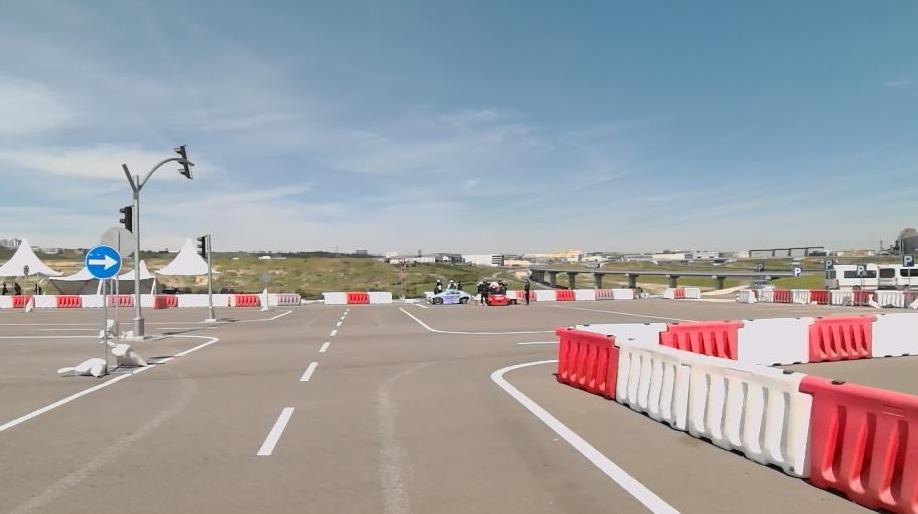nesne: (1, 301, 691, 513), (223, 306, 683, 514), (1, 304, 353, 513), (554, 325, 918, 514), (490, 358, 679, 513), (616, 339, 813, 480), (0, 333, 218, 433), (574, 313, 918, 368), (802, 375, 918, 514), (0, 291, 301, 308), (557, 320, 619, 399), (398, 306, 554, 335), (737, 288, 916, 308), (662, 318, 744, 361), (737, 317, 808, 365), (808, 315, 874, 363), (583, 321, 666, 345), (873, 315, 918, 358), (824, 264, 892, 292), (256, 407, 294, 456), (501, 288, 632, 302), (320, 287, 396, 306), (85, 242, 122, 280), (878, 264, 917, 292), (427, 289, 474, 307), (179, 293, 235, 307), (875, 291, 904, 308), (233, 293, 261, 308), (829, 289, 854, 305), (475, 278, 490, 304), (107, 293, 136, 306), (154, 293, 179, 308), (81, 293, 109, 306), (299, 362, 318, 381), (34, 293, 58, 308), (808, 288, 830, 304), (735, 288, 757, 304), (535, 289, 558, 304), (56, 294, 82, 307), (262, 292, 280, 310), (12, 293, 35, 307), (853, 291, 876, 305), (322, 292, 348, 304), (487, 293, 510, 306), (575, 288, 596, 302), (792, 288, 809, 305), (368, 291, 392, 303), (279, 292, 300, 305), (597, 288, 616, 302), (346, 292, 370, 303), (755, 288, 773, 302), (904, 289, 917, 308), (771, 289, 790, 302), (613, 289, 635, 300), (555, 288, 575, 300), (138, 293, 155, 307), (517, 290, 535, 302), (432, 276, 444, 294), (0, 295, 14, 308), (902, 254, 914, 268), (517, 340, 558, 344), (317, 342, 331, 353), (504, 291, 518, 299), (329, 329, 338, 337), (335, 321, 343, 328)
